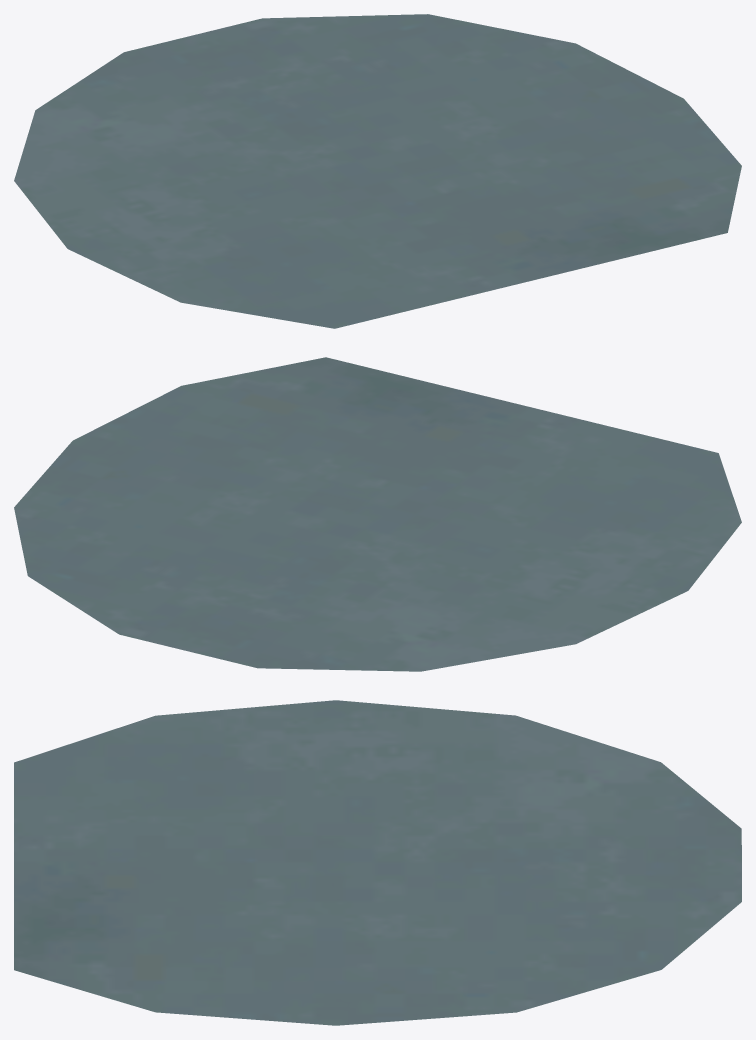
The picture shows the model from 3 angles, top to bottom: view 1: azimuth 30°, elevation 25°; view 2: azimuth 150°, elevation 25°; view 3: azimuth 270°, elevation 25°; orthographic projection. The views are drawn at different scales.
Parts seen in each view (by area): view 1: Joint_0_Object_0; view 2: Joint_0_Object_0; view 3: Joint_0_Object_0.
Boxes of the visible parts, x1,y1,x2,y2 form: Joint_0_Object_0: (14, 14, 741, 328); Joint_0_Object_0: (14, 357, 741, 671); Joint_0_Object_0: (14, 700, 741, 1025).
Size of the model in its own units: 548 by 0.1581 by 518.
1 material, 1 textured.
